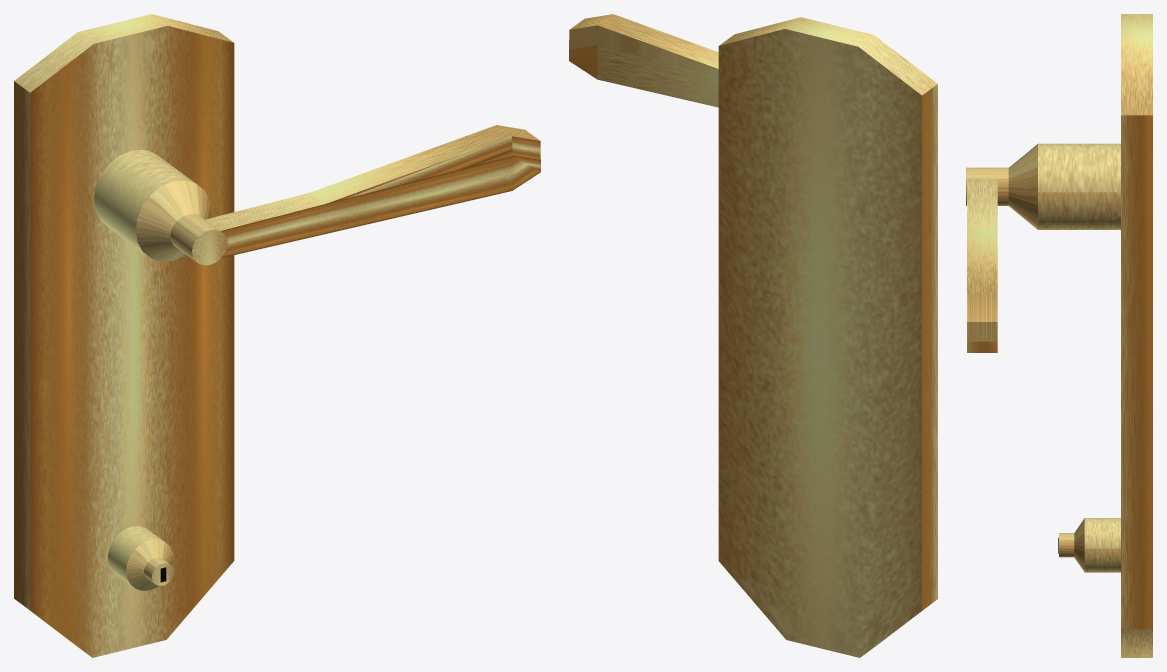
The model's file is LATON.fbx.
The picture shows the model from 3 angles, left to right: view 1: azimuth 30°, elevation 25°; view 2: azimuth 150°, elevation 25°; view 3: azimuth 270°, elevation 25°; orthographic projection.
Visible parts, largest first — view 1: polySurface2; view 2: polySurface2; view 3: polySurface2.
Part boxes in pixels (left/top/right/bottom): polySurface2: left=14, top=14, right=540, bottom=657; polySurface2: left=569, top=14, right=937, bottom=657; polySurface2: left=966, top=14, right=1152, bottom=657.
Size of the model in its own units: 17.31 by 23.45 by 6.52.
Materials: 3 (1 with a texture image).
